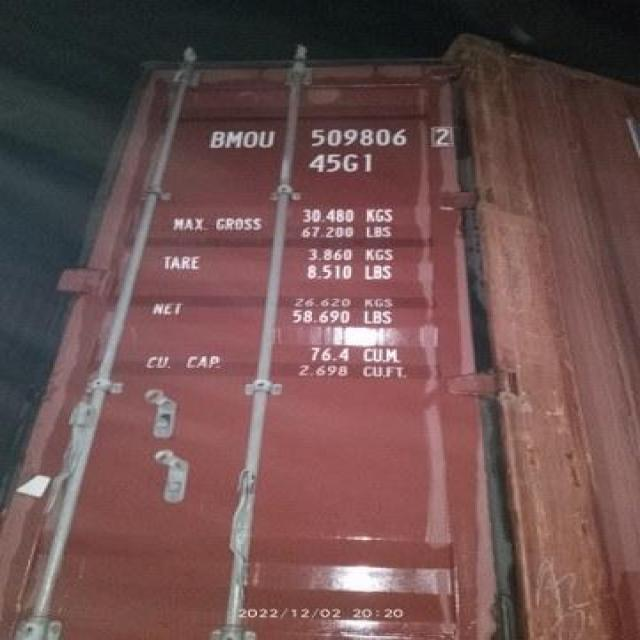container_number_h: (183, 97, 476, 212)
